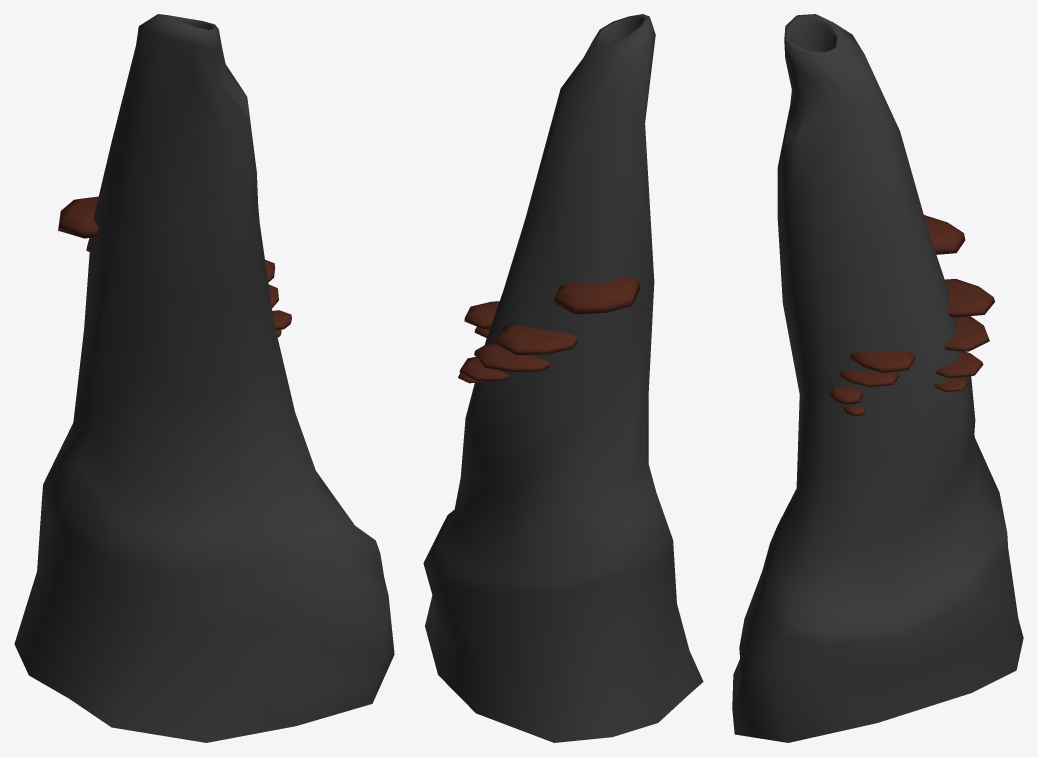
File: magmastuff_ventA.fbx
The picture shows the model from 3 angles, left to right: view 1: azimuth 30°, elevation 25°; view 2: azimuth 150°, elevation 25°; view 3: azimuth 270°, elevation 25°; orthographic projection. The views are drawn at different scales.
Visible parts, largest first — view 1: ventA; view 2: ventA; view 3: ventA.
Boxes of the visible parts, x1,y1,x2,y2 form: ventA: (14, 14, 394, 742); ventA: (423, 14, 703, 742); ventA: (732, 14, 1023, 742).
Size of the model in its own units: 211 by 487 by 197.
